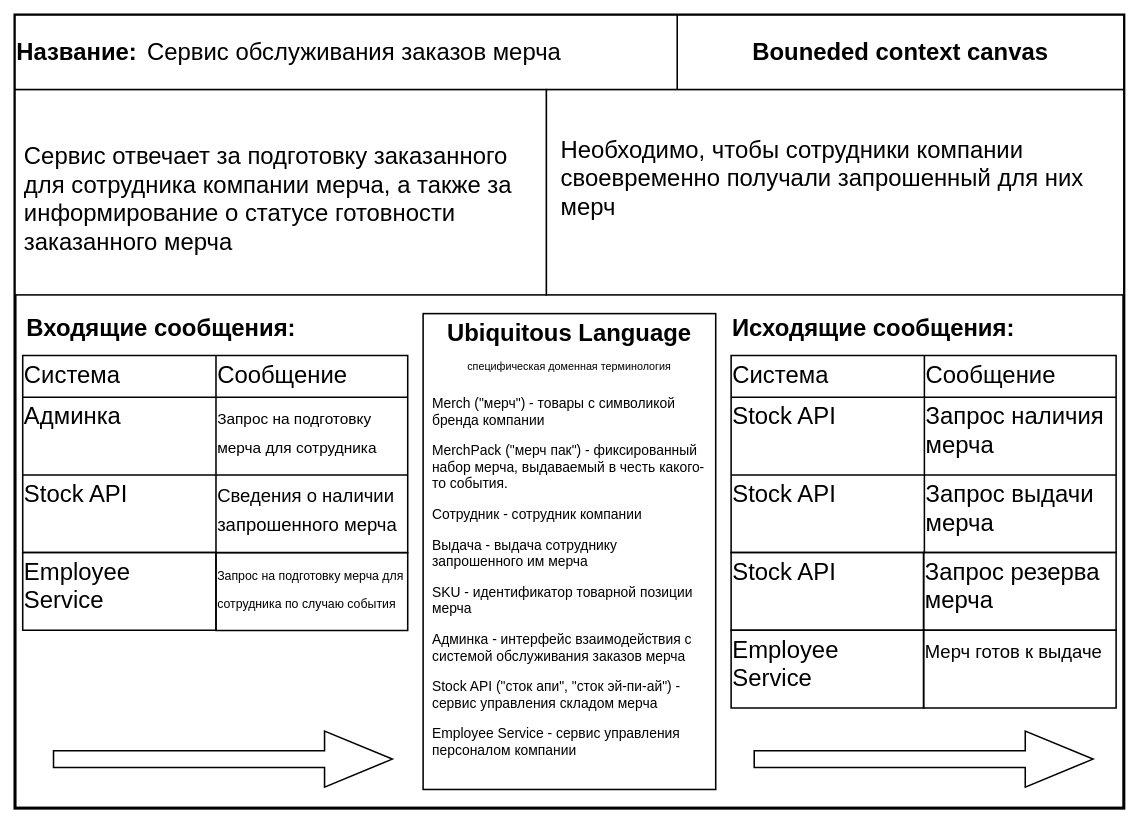
Some shapes in this 1138 by 822 pixel diagram are drawn without their labels. The shapes that lost their labels are listed below. From the top down, each one's box as (x1, y1, x2, y2) in pixels, then its label:
(14, 88, 547, 295): Описание:
(545, 88, 1124, 295): Стратегическая классификация:
